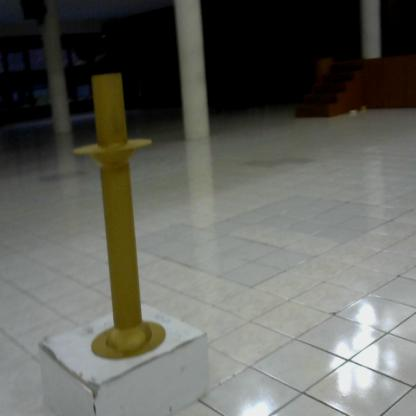pole: (63, 66, 175, 371)
